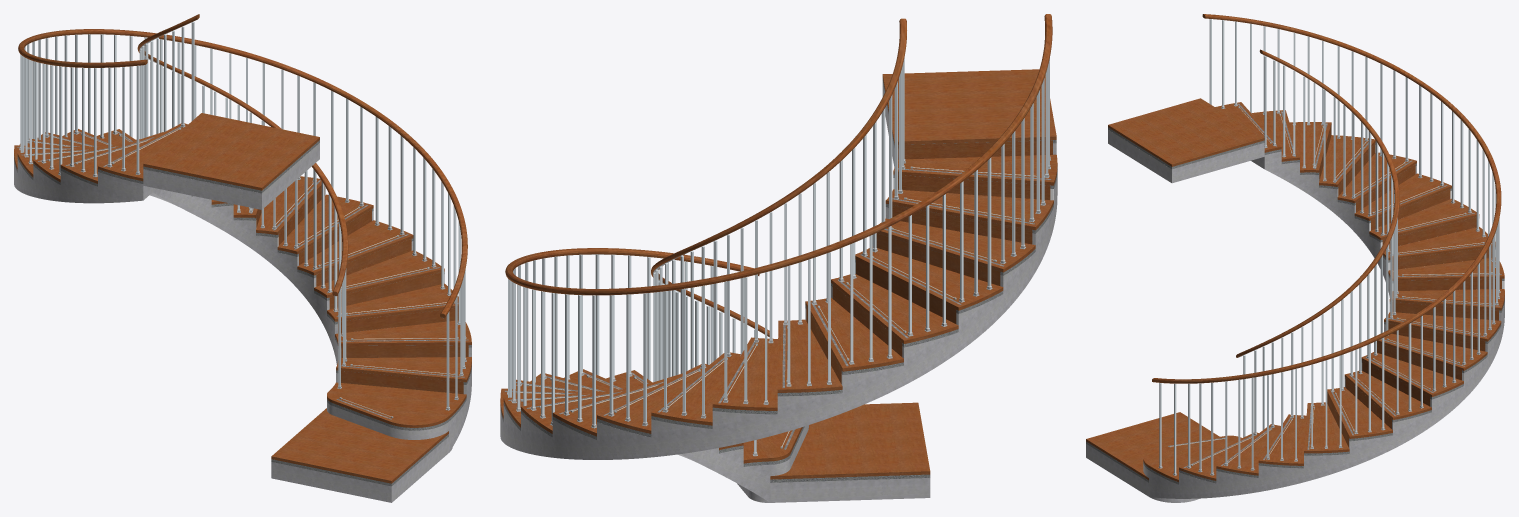
The model's file is curved-stair.glb.
3 views of the same model, side by side, from view 1: azimuth 30°, elevation 25°; view 2: azimuth 150°, elevation 25°; view 3: azimuth 270°, elevation 25° (orthographic). The views are drawn at different scales.
Visible parts, largest first — view 1: 木制面层, 弧形扶手, 楼梯承重基础层, 结合层, 防滑条, 地毯棍; view 2: 木制面层, 弧形扶手, 楼梯承重基础层, 结合层, 防滑条, 地毯棍; view 3: 木制面层, 弧形扶手, 楼梯承重基础层, 结合层, 防滑条, 地毯棍.
Boxes of the visible parts, x1,y1,x2,y2 form: 木制面层: (14,113,471,483); 弧形扶手: (18,14,467,410); 楼梯承重基础层: (14,143,471,502); 结合层: (14,140,471,486); 防滑条: (17,126,468,419); 地毯棍: (27,128,458,418); 木制面层: (500,69,1057,479); 弧形扶手: (505,14,1052,456); 楼梯承重基础层: (500,81,1057,502); 结合层: (500,78,1057,482); 防滑条: (504,168,1051,449); 地毯棍: (516,166,1036,448); 木制面层: (1086,98,1504,482); 弧形扶手: (1152,14,1501,475); 楼梯承重基础层: (1086,127,1504,502); 结合层: (1086,125,1504,484); 防滑条: (1168,103,1501,467); 地毯棍: (1169,106,1492,465).
Bounding box in the file's own units: 4.52 × 4.74 × 4.86.
10 materials, 5 textured.
